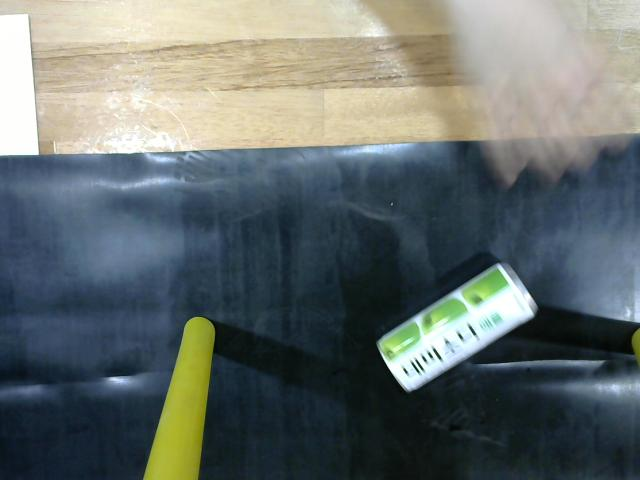can: (370, 247, 548, 405)
